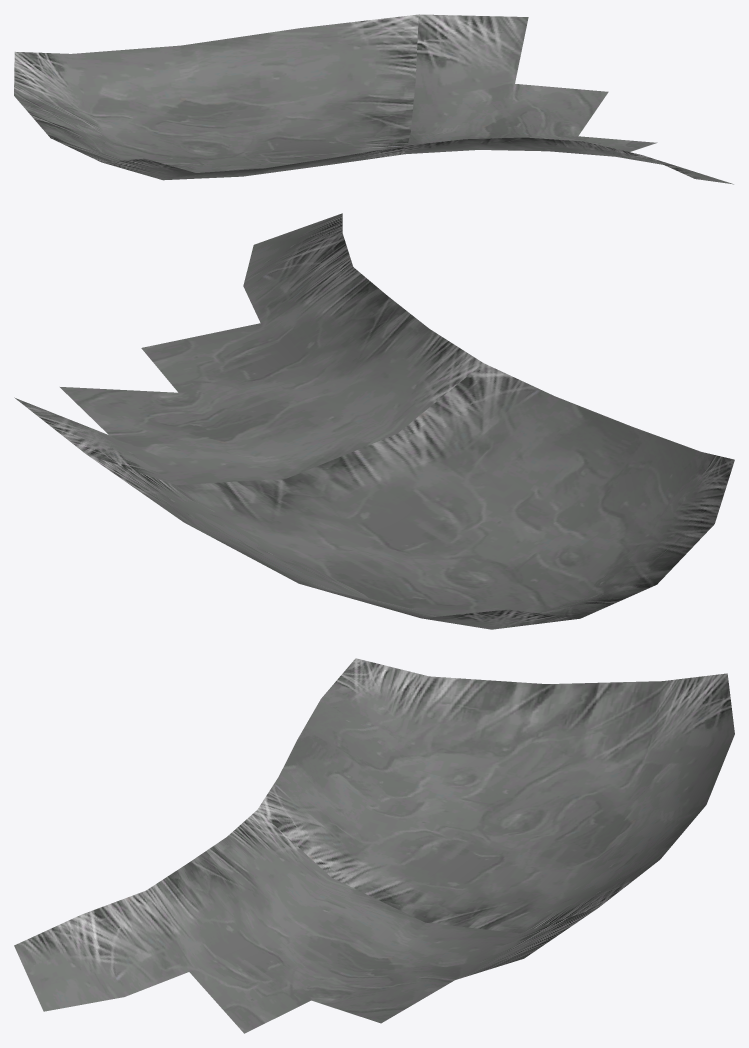
File: SWORDLIGHT20_PS-AREA01_16.fbx
The picture shows the model from 3 angles, top to bottom: view 1: azimuth 30°, elevation 25°; view 2: azimuth 150°, elevation 25°; view 3: azimuth 270°, elevation 25°; orthographic projection. The views are drawn at different scales.
Visible parts, largest first — view 1: SWORDLIGHT20_PS-AREA01_16; view 2: SWORDLIGHT20_PS-AREA01_16; view 3: SWORDLIGHT20_PS-AREA01_16.
Part boxes in pixels (x1,y1,x2,y2): SWORDLIGHT20_PS-AREA01_16: (14,14,733,184); SWORDLIGHT20_PS-AREA01_16: (14,213,734,629); SWORDLIGHT20_PS-AREA01_16: (14,658,734,1033).
Size of the model in its own units: 95482 by 12907 by 95095.
Materials: 2 (2 with a texture image).
